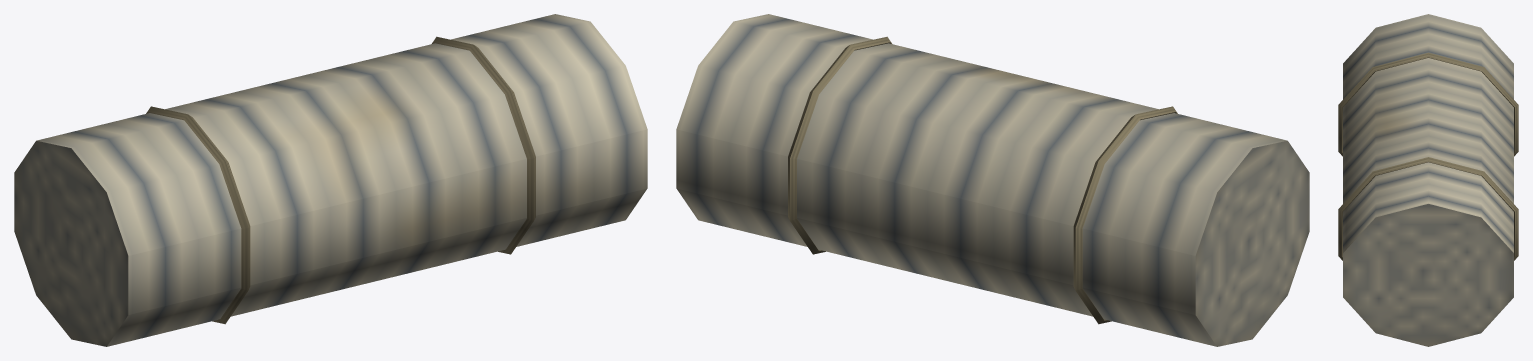
Rendered from mattress_rolled.glb.
The picture shows the model from 3 angles, left to right: view 1: azimuth 30°, elevation 25°; view 2: azimuth 150°, elevation 25°; view 3: azimuth 270°, elevation 25°; orthographic projection. The views are drawn at different scales.
Visible parts, largest first — view 1: mattress_rolled; view 2: mattress_rolled; view 3: mattress_rolled.
Boxes of the visible parts, x1,y1,x2,y2 form: mattress_rolled: (14, 14, 647, 346); mattress_rolled: (676, 14, 1309, 346); mattress_rolled: (1338, 14, 1518, 346).
Bounding box in the file's own units: 0.8 × 0.2974 × 0.3215.
1 material, 1 textured.
